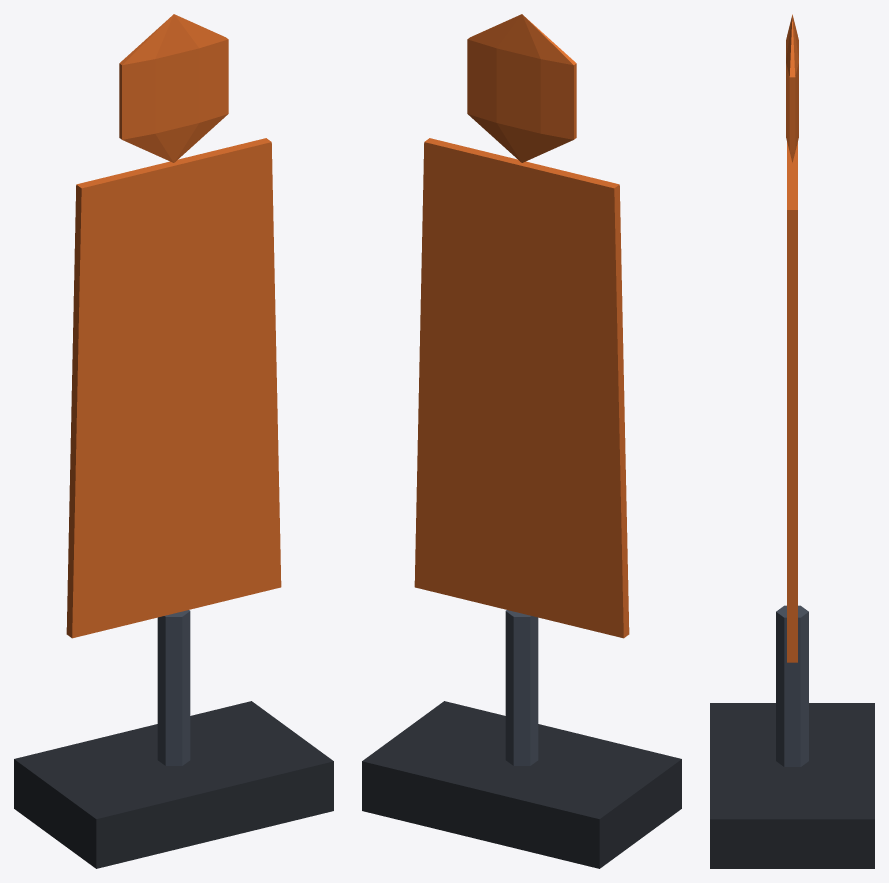
The model's file is popup_target.glb.
3 renders of one model, left to right at view 1: azimuth 30°, elevation 25°; view 2: azimuth 150°, elevation 25°; view 3: azimuth 270°, elevation 25°, orthographic.
Visible parts, largest first — view 1: popup_target; view 2: popup_target; view 3: popup_target.
Boxes of the visible parts, x1,y1,x2,y2 form: popup_target: (14, 14, 333, 868); popup_target: (362, 14, 681, 868); popup_target: (710, 14, 874, 868).
Size of the model in its own units: 0.5 by 1.6 by 0.3.
